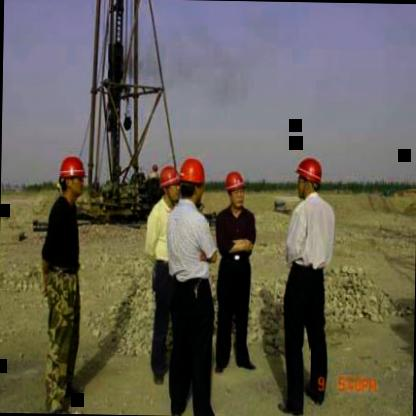helmet: (56, 152, 88, 204), (296, 154, 326, 201), (176, 158, 205, 205), (162, 160, 188, 208), (223, 170, 247, 212)
